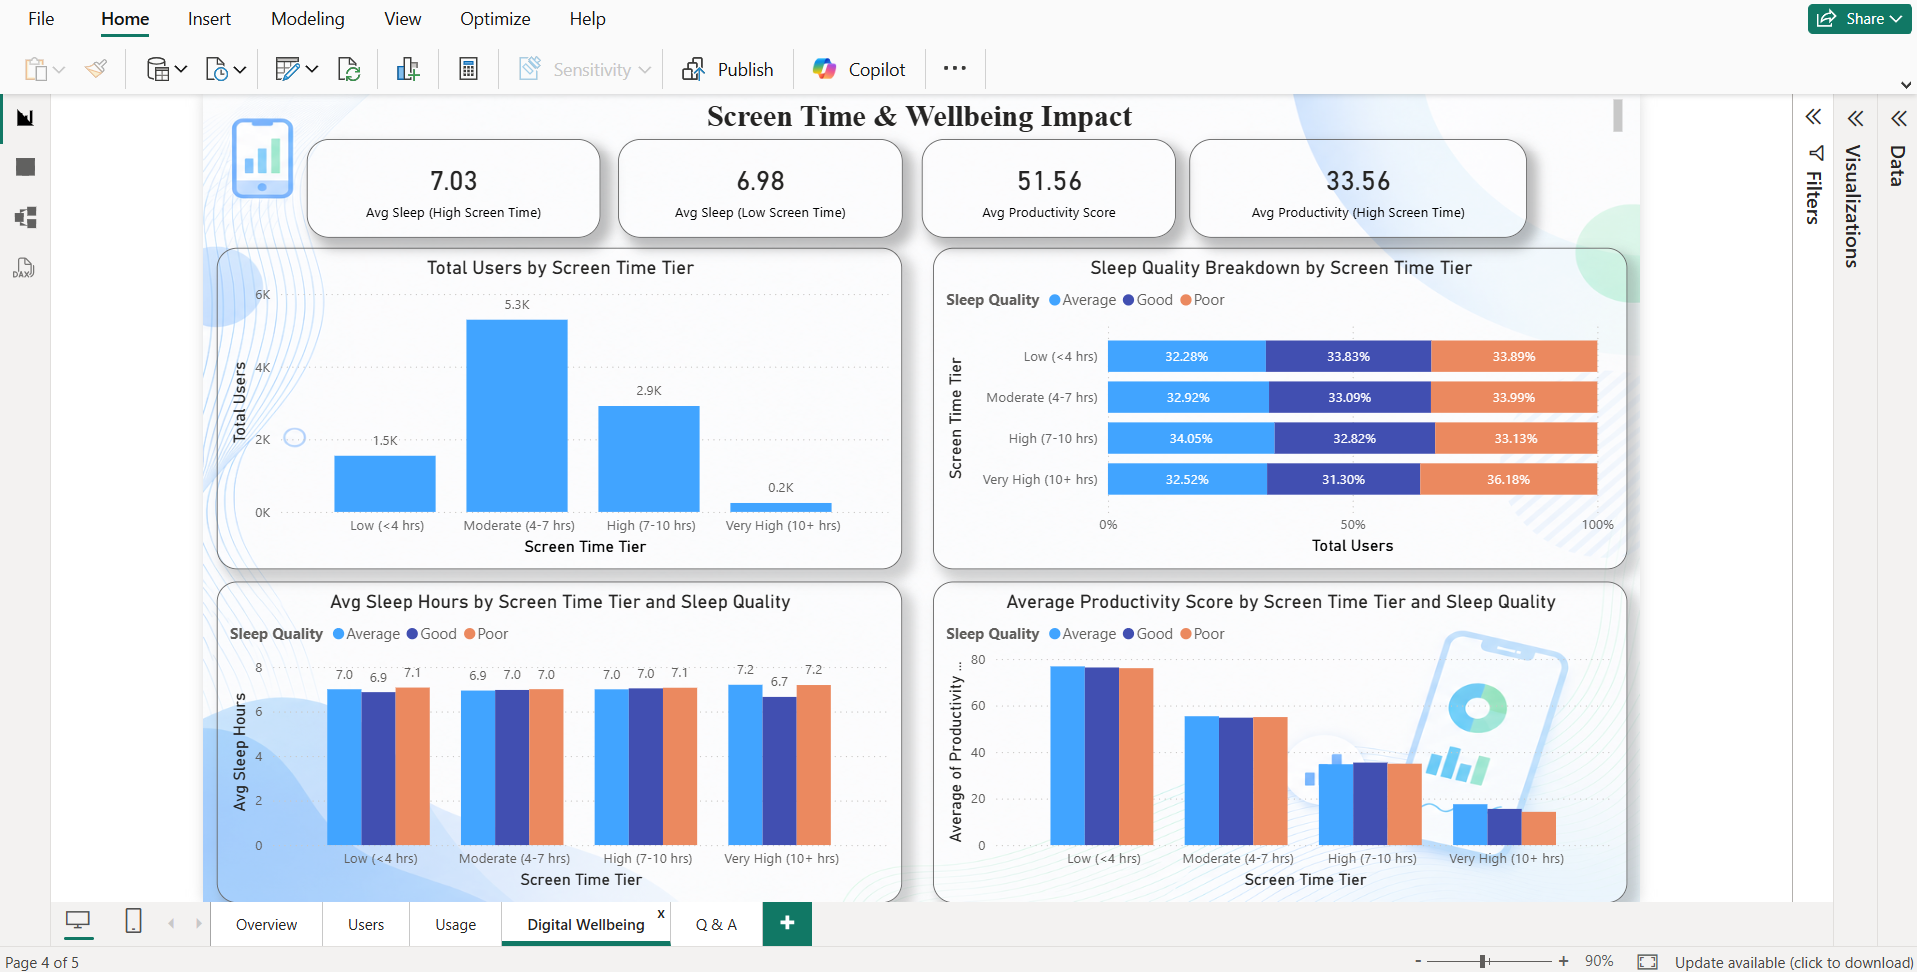

This screenshot's page, from the dashboard's own definition file:
{"tool":"powerbi","page":{"name":"Digital Wellbeing","canvas":[1280,720],"ordinal":3},"visuals":[{"type":"columnChart","title":"Total Users by Screen Time Tier","fields":{"Category":["Mobile_ScreenTime_Dataset.Screen Time Tier"],"Y":["Mobile_ScreenTime_Dataset.Total Users"]},"box":[12.8,137.2,610.5,286],"z":0},{"type":"hundredPercentStackedBarChart","title":"Sleep Quality Breakdown by Screen Time Tier","fields":{"Series":["Mobile_ScreenTime_Dataset.Sleep Quality"],"Y":["Mobile_ScreenTime_Dataset.Total Users"],"Category":["Mobile_ScreenTime_Dataset.Screen Time Tier"]},"box":[650,137.2,618.6,286],"z":1000},{"type":"clusteredColumnChart","fields":{"Category":["Mobile_ScreenTime_Dataset.Screen Time Tier"],"Y":["Mobile_ScreenTime_Dataset.Avg Sleep Hours"],"Series":["Mobile_ScreenTime_Dataset.Sleep Quality"]},"box":[12.8,433.7,610.5,286],"z":2000},{"type":"clusteredColumnChart","title":"Average Productivity Score by Screen Time Tier and Sleep Quality","fields":{"Category":["Mobile_ScreenTime_Dataset.Screen Time Tier"],"Y":["Avg(Mobile_ScreenTime_Dataset.Productivity Score)"],"Series":["Mobile_ScreenTime_Dataset.Sleep Quality"]},"box":[650,433.7,618.6,286],"z":3000},{"type":"card","fields":{"Values":["Mobile_ScreenTime_Dataset.Avg Sleep (High Screen Time)"]},"box":[91.9,39.5,261.6,88.4],"z":4000},{"type":"card","fields":{"Values":["Mobile_ScreenTime_Dataset.Avg Sleep (Low Screen Time)"]},"box":[369.8,39.5,253.5,88.4],"z":5000},{"type":"card","fields":{"Values":["Mobile_ScreenTime_Dataset.Avg Productivity Score"]},"box":[639.5,39.5,226.7,88.4],"z":6000},{"type":"card","fields":{"Values":["Mobile_ScreenTime_Dataset.Avg Productivity (High Screen Time)"]},"box":[877.9,39.5,301.2,88.4],"z":7000},{"type":"textbox","box":[14,0,1254.7,39.5],"z":8000}]}

Visuals, with their boxes on the page's 1280x720 design canvas (x1, y1, x2, y2). These are canvas units, not pixel positions in the 1917x972 screenshot, which may show the page scaled, cropped or inside an application window:
"Total Users by Screen Time Tier" columnChart: 13/137/623/423
"Sleep Quality Breakdown by Screen Time Tier" hundredPercentStackedBarChart: 650/137/1269/423
clusteredColumnChart - Mobile_ScreenTime_Dataset.Screen Time Tier x Mobile_ScreenTime_Dataset.Avg Sleep Hours: 13/434/623/720
"Average Productivity Score by Screen Time Tier and Sleep Quality" clusteredColumnChart: 650/434/1269/720
card - Mobile_ScreenTime_Dataset.Avg Sleep (High Screen Time): 92/40/354/128
card - Mobile_ScreenTime_Dataset.Avg Sleep (Low Screen Time): 370/40/623/128
card - Mobile_ScreenTime_Dataset.Avg Productivity Score: 640/40/866/128
card - Mobile_ScreenTime_Dataset.Avg Productivity (High Screen Time): 878/40/1179/128
textbox: 14/0/1269/40
